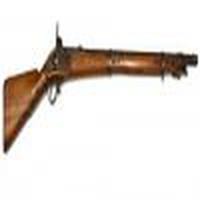gun: (1, 43, 179, 149)
